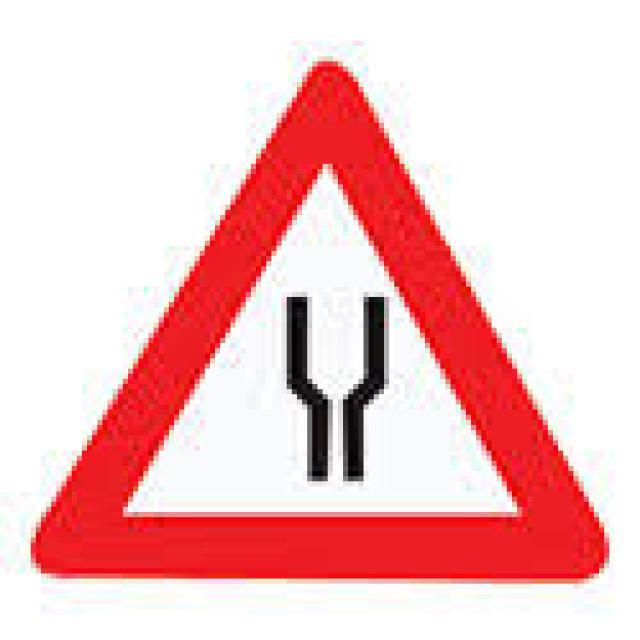road widens ahead: (33, 53, 610, 589)
